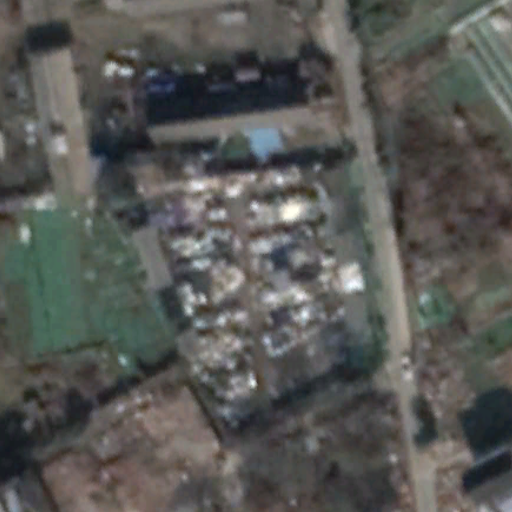msw: (138, 181, 349, 401)
